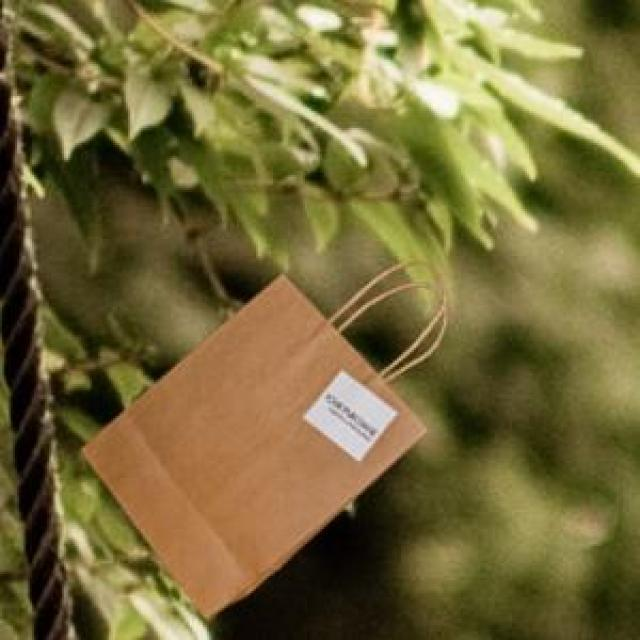paper: (79, 267, 442, 614)
